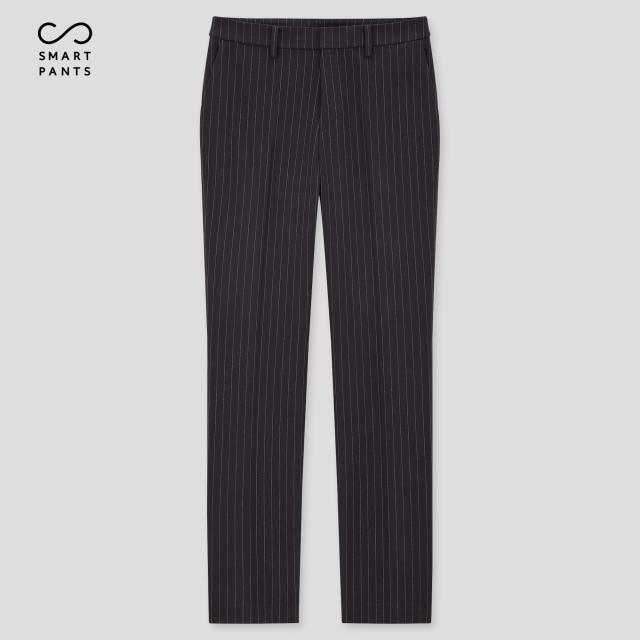long-pants: (199, 17, 443, 628)
